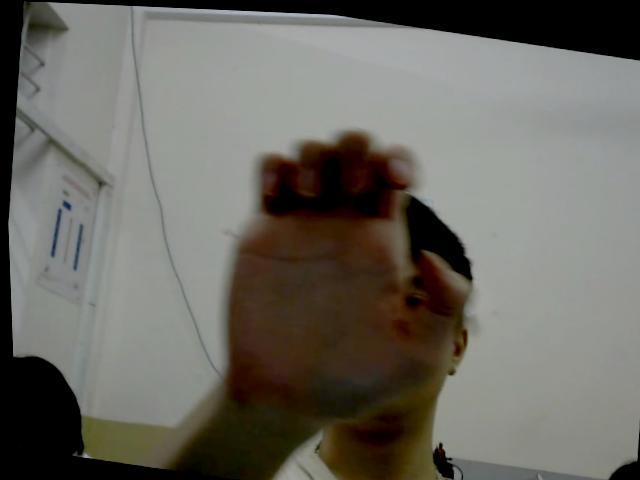E: (205, 105, 488, 427)
